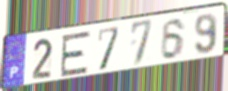2: (31, 37, 54, 80)
6: (159, 18, 187, 61)
7: (129, 18, 154, 71), (97, 25, 121, 72)
9: (193, 12, 218, 56)
E: (59, 29, 92, 79)
